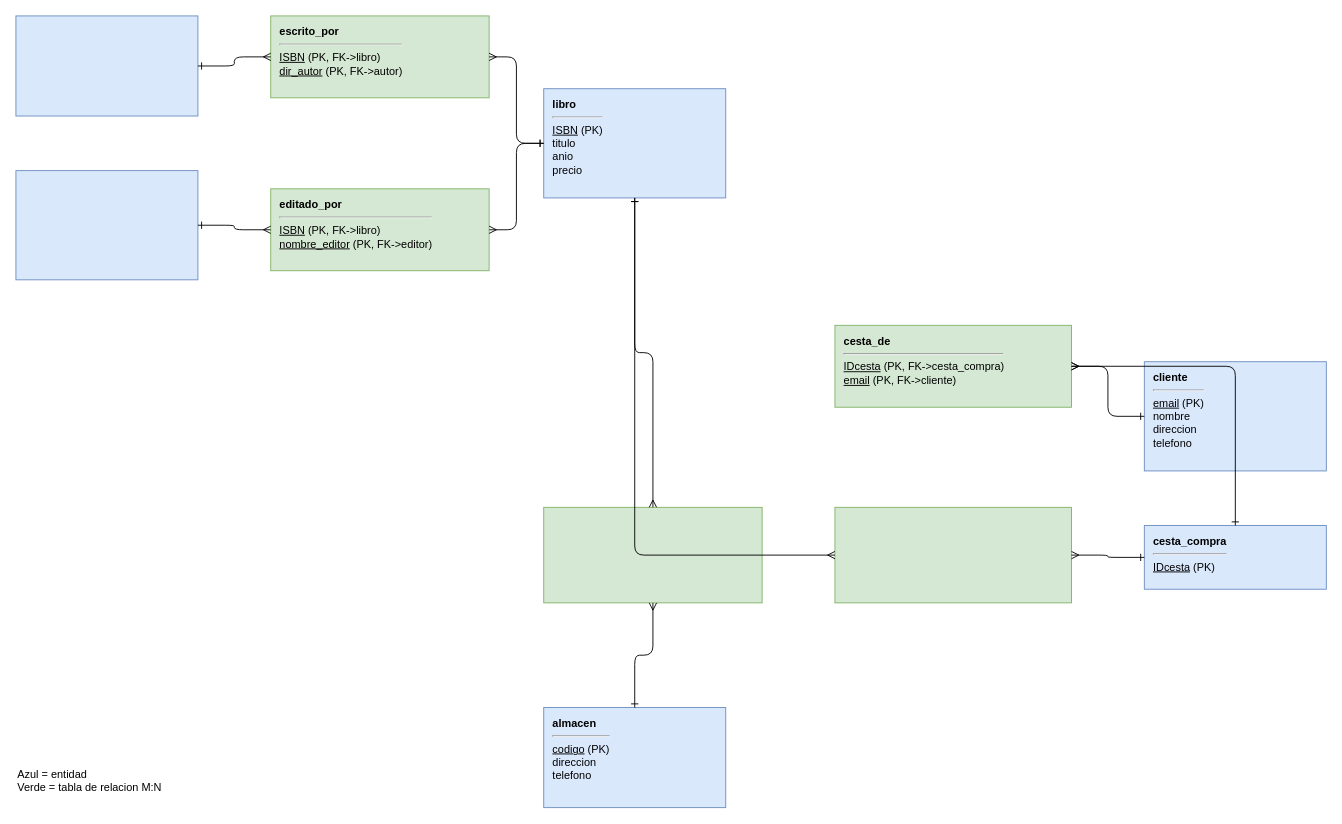
The diagram is 1342 pixels wide and 824 high, and some of its shapes have lost their labels. The shapes that lost their labels are listed below. From the top down, each one's centre as x and y in pixels, then its label:
At (106,65): "autor direccion (PK) nombre URL".
At (106,225): "editor nombre (PK) direccion telefono URL".
At (652,554): "almacena ISBN (PK, FK->libro) codigo (PK, FK->almacen) numero".
At (953,554): "contiene IDcesta (PK, FK->cesta_compra) ISBN (PK, FK->libro) numero".
